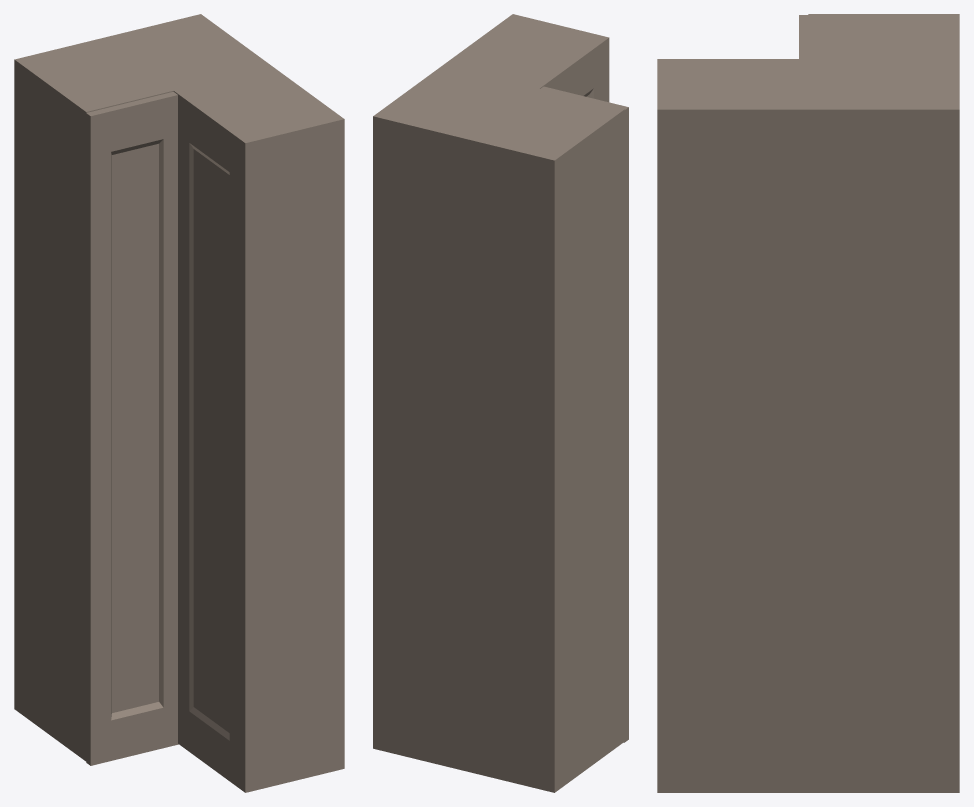
Rendered from Wall-Cabinet-Easy-Reach-12-Deep_std_001_W9in.glb.
The picture shows the model from 3 angles, left to right: view 1: azimuth 30°, elevation 25°; view 2: azimuth 150°, elevation 25°; view 3: azimuth 270°, elevation 25°; orthographic projection. The views are drawn at different scales.
Visible parts, largest first — view 1: Wall-Cabinet-Easy-Reach-12-Deep.std.001_W9in; view 2: Wall-Cabinet-Easy-Reach-12-Deep.std.001_W9in; view 3: Wall-Cabinet-Easy-Reach-12-Deep.std.001_W9in.
Part boxes in pixels (left/top/right/bottom): Wall-Cabinet-Easy-Reach-12-Deep.std.001_W9in: left=14, top=14, right=344, bottom=792; Wall-Cabinet-Easy-Reach-12-Deep.std.001_W9in: left=373, top=14, right=628, bottom=792; Wall-Cabinet-Easy-Reach-12-Deep.std.001_W9in: left=657, top=14, right=959, bottom=792.
Bounding box in the file's own units: 0.2286 × 0.762 × 0.3048.
